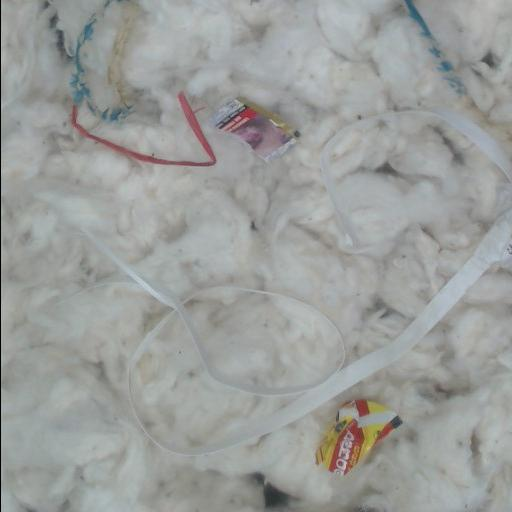cloth: (59, 0, 132, 121), (402, 0, 468, 94)
cotton: (1, 0, 512, 511)
packet: (316, 402, 401, 474), (210, 99, 299, 160)
thread: (79, 109, 512, 455), (71, 96, 216, 166)
